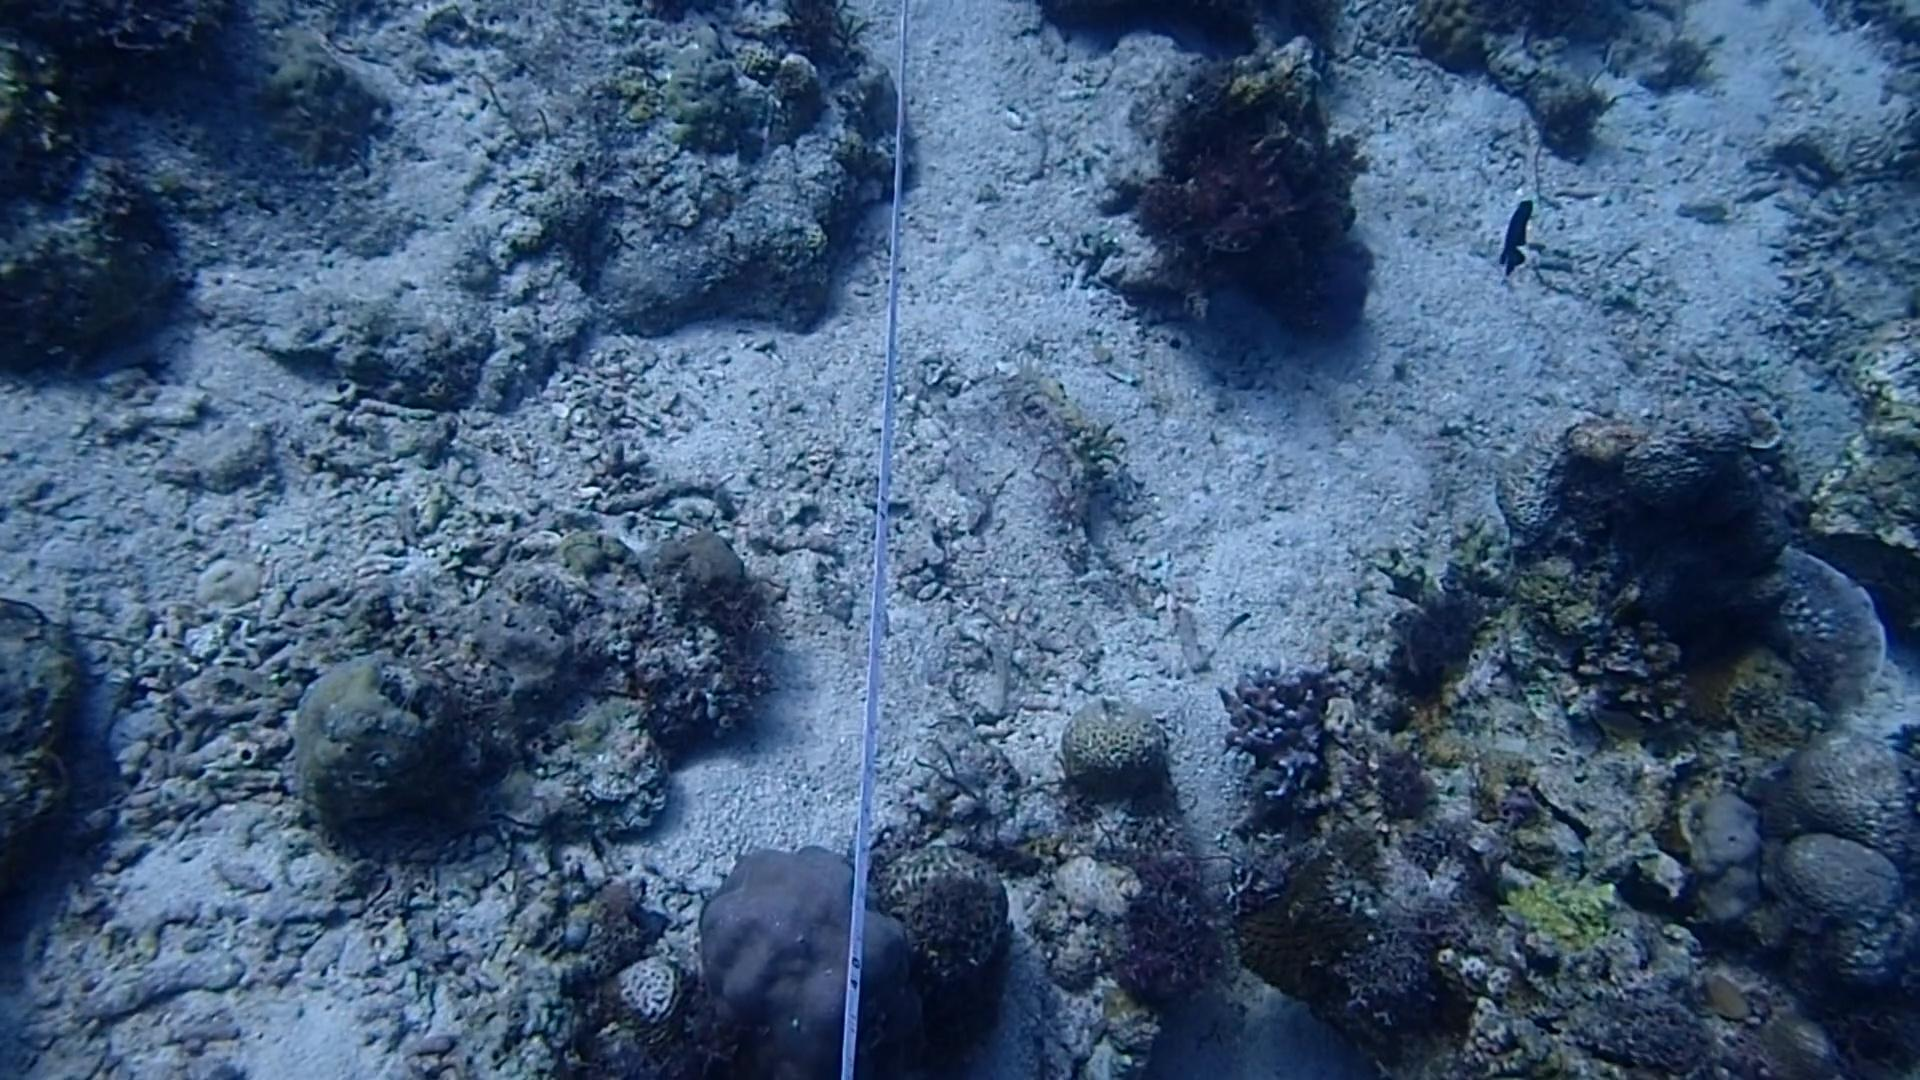Dark Fish: (1487, 185, 1549, 291)
